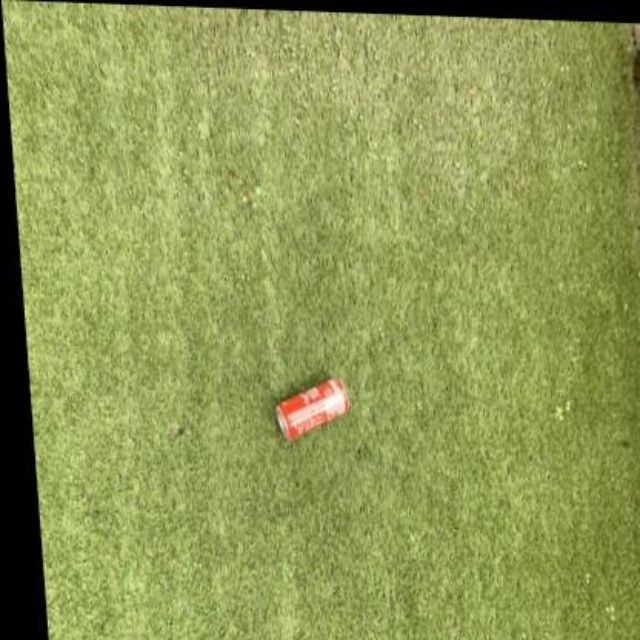trash: (275, 378, 348, 438)
